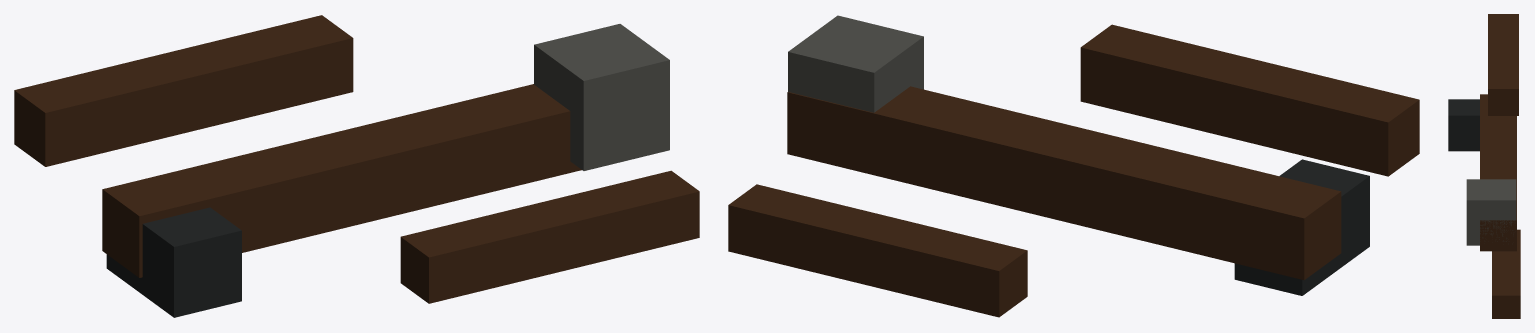
The model's file is SM_MoriaCollapsedBeam.obj.
The picture shows the model from 3 angles, left to right: view 1: azimuth 30°, elevation 25°; view 2: azimuth 150°, elevation 25°; view 3: azimuth 270°, elevation 25°; orthographic projection. The views are drawn at different scales.
Parts seen in each view (by area): view 1: SM_MoriaCollapsedBeam; view 2: SM_MoriaCollapsedBeam; view 3: SM_MoriaCollapsedBeam.
Boxes of the visible parts, box(x1,y1,x2,y2) form: SM_MoriaCollapsedBeam: box(14, 15, 699, 317); SM_MoriaCollapsedBeam: box(728, 15, 1419, 317); SM_MoriaCollapsedBeam: box(1448, 14, 1520, 318).
Size of the model in its own units: 535 by 224 by 102.
